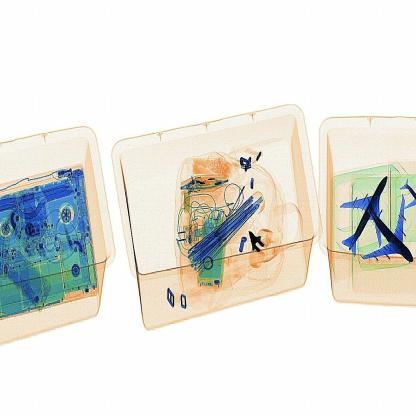gun: (242, 218, 284, 276)
